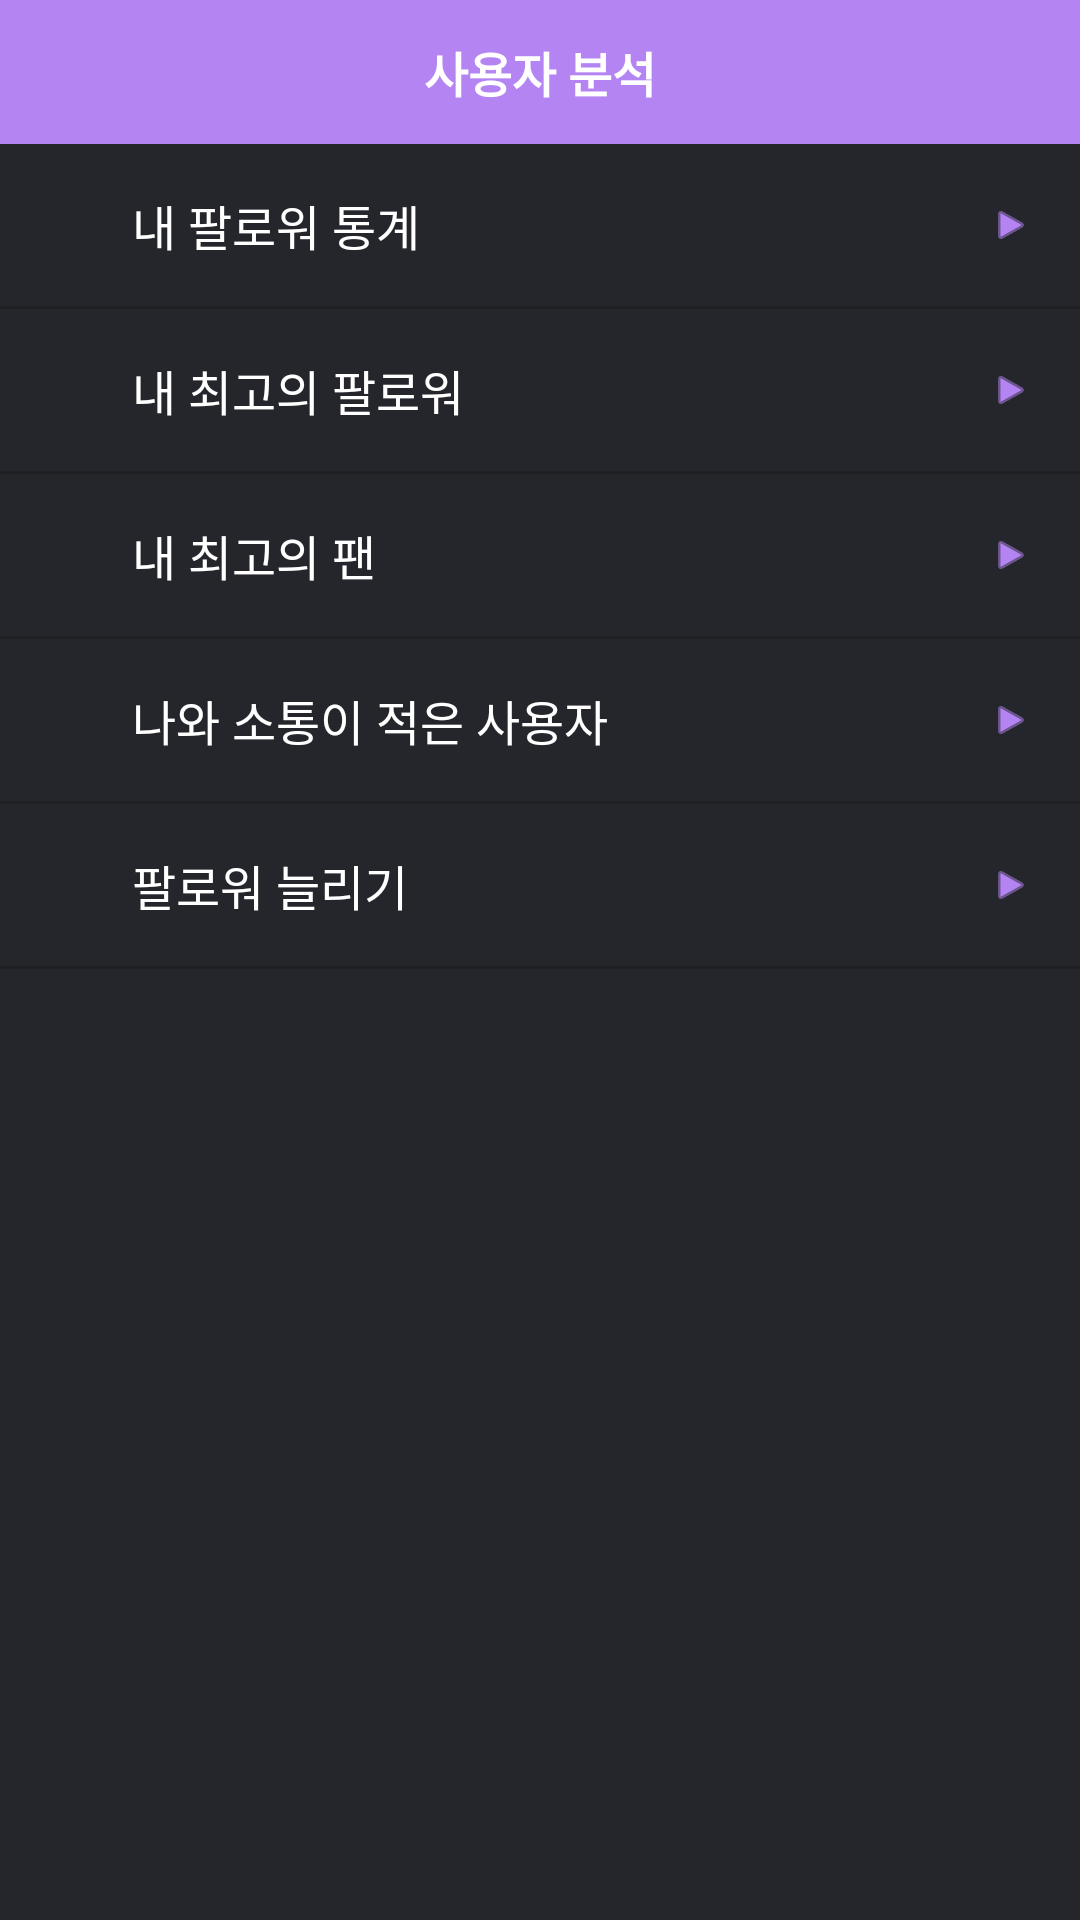

Where icons sit on this 1080x1920 app screen, as (x1, y1, x2, y2):
play: (998, 211, 1024, 239), (998, 376, 1024, 404), (998, 541, 1024, 569), (998, 706, 1024, 734), (998, 871, 1024, 899)
